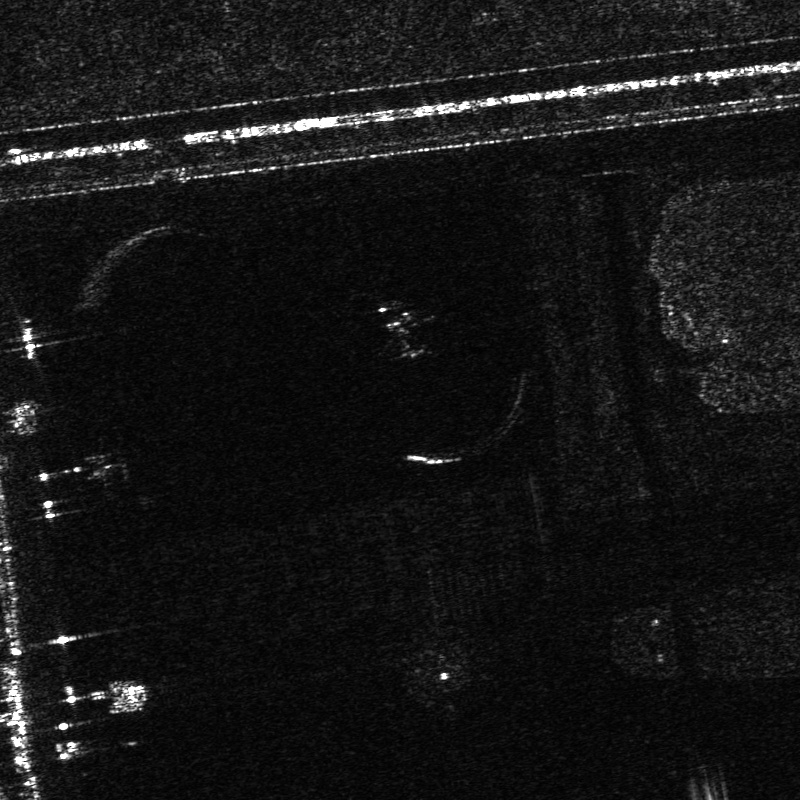A220: (376, 308, 435, 360)
